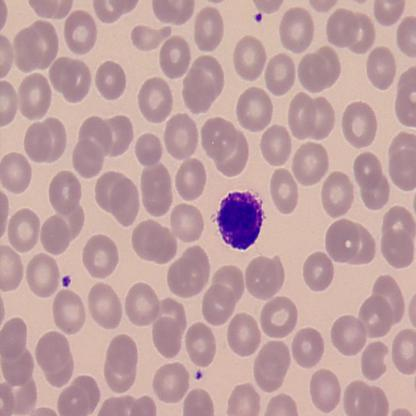Basophil: (214, 189, 266, 252)
